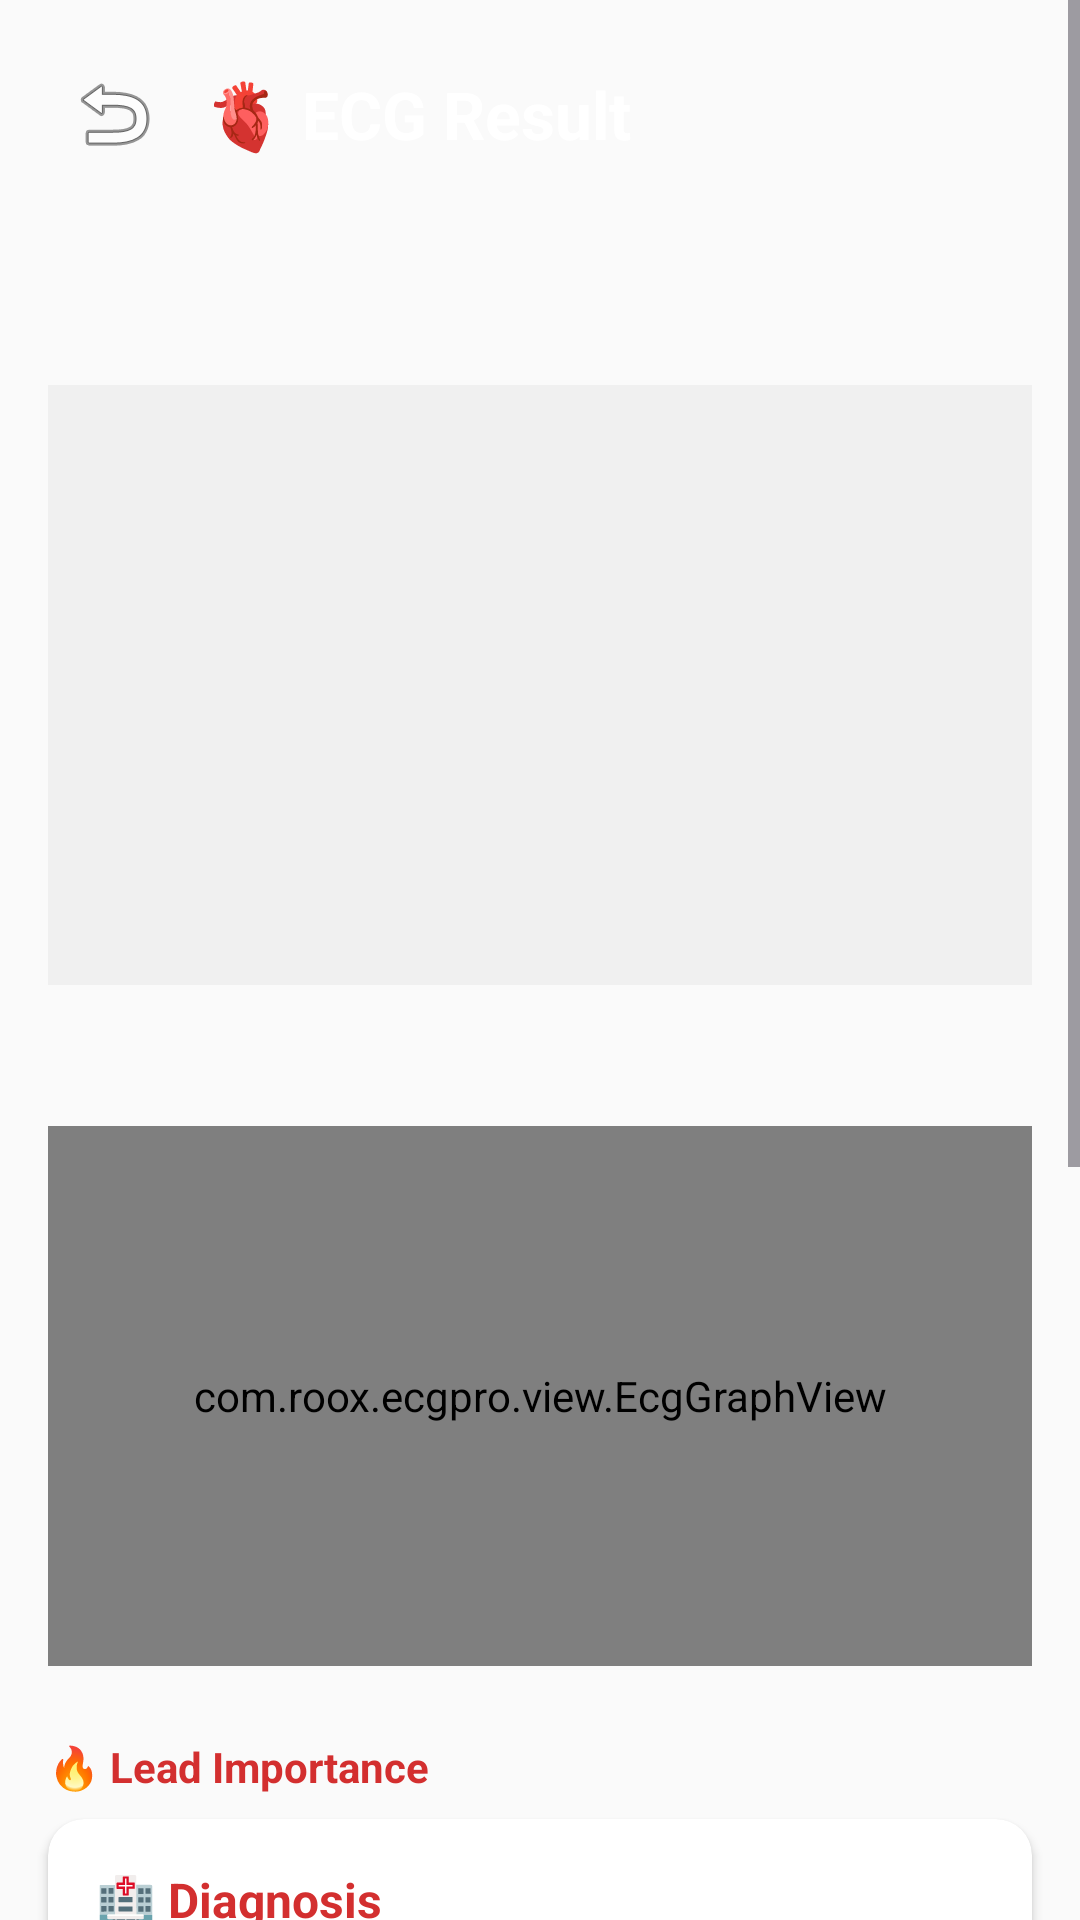

Screen size 1080×1920. Icon name, then its center in pixels as [x,y]:
revert: [115,114]
